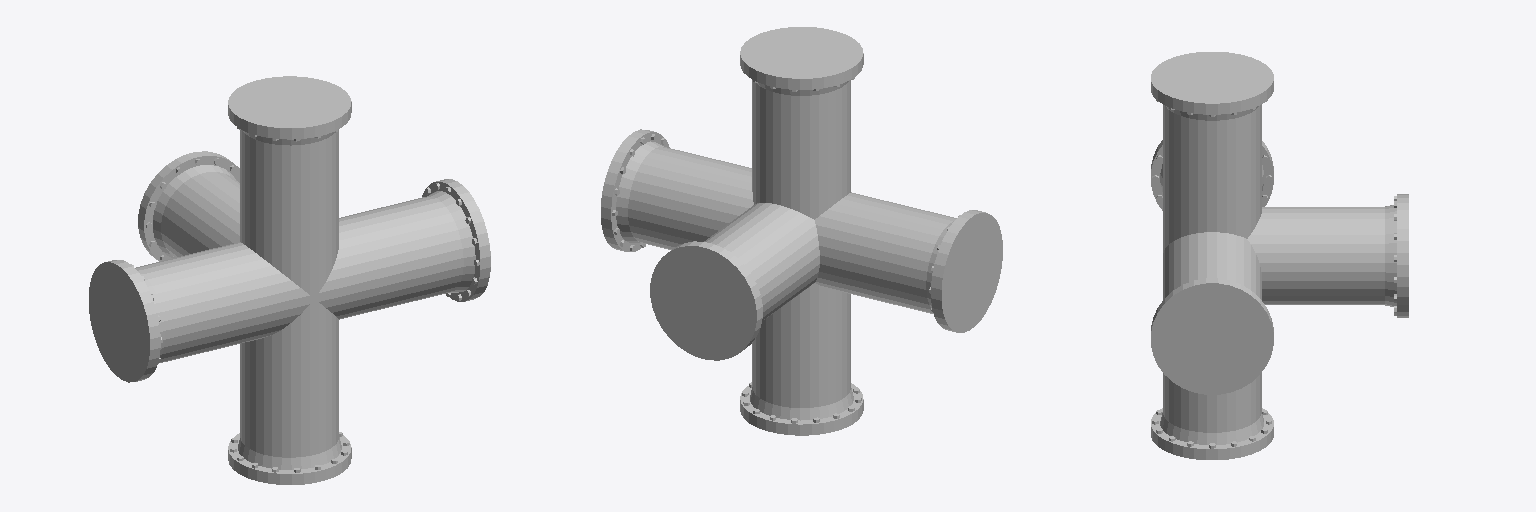
File: pipeworks_pipe_9.obj
3 views of the same model, side by side, from view 1: azimuth 30°, elevation 25°; view 2: azimuth 150°, elevation 25°; view 3: azimuth 270°, elevation 25° (orthographic).
Parts seen in each view (by area): view 1: Pipe_Cylinder.002_None; view 2: Pipe_Cylinder.002_None; view 3: Pipe_Cylinder.002_None.
Boxes of the visible parts, x1,y1,x2,y2 form: Pipe_Cylinder.002_None: [89, 76, 490, 484]; Pipe_Cylinder.002_None: [601, 27, 1002, 435]; Pipe_Cylinder.002_None: [1151, 52, 1408, 459].
Bounding box in the file's own units: 1 × 1 × 0.6562.